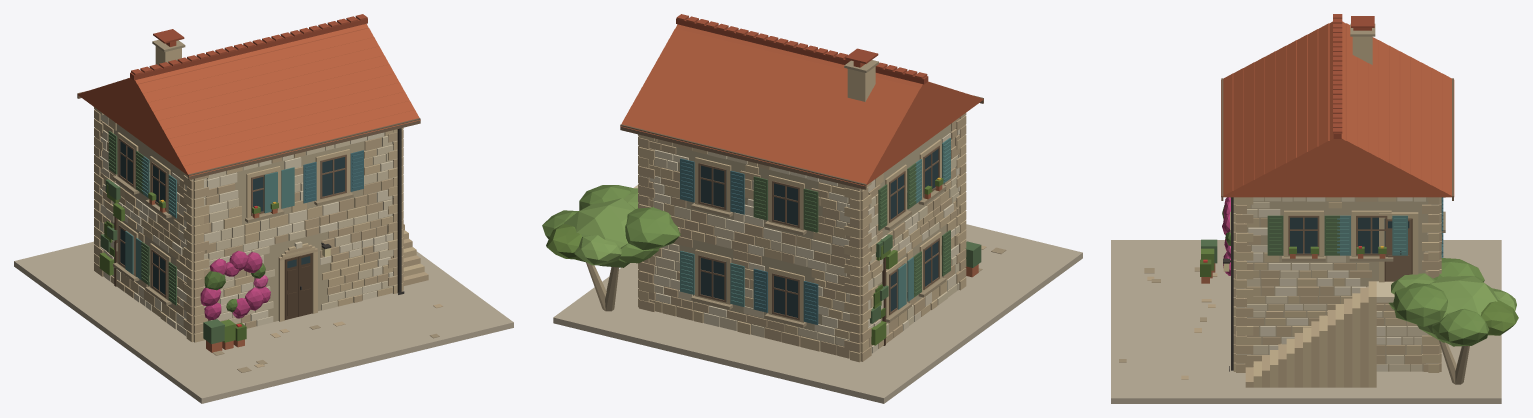
The model's file is ev-tas-dis-merdivenli.glb.
The picture shows the model from 3 angles, left to right: view 1: azimuth 30°, elevation 25°; view 2: azimuth 150°, elevation 25°; view 3: azimuth 270°, elevation 25°; orthographic projection. The views are drawn at different scales.
Visible parts, largest first — view 1: kiremit1, zemin, tas2, tas3, harc, tas4, tas1, ahsap, cam, kepenk2, begonvil, ahsap_koyu (+10 smaller); view 2: kiremit1, zemin, tas2, tas3, harc, tas1, tas4, cam, ahsap, yaprak1, yaprak3, yesil_kepenk (+7 smaller); view 3: kiremit1, zemin, tas2, tas3, harc, yaprak1, tas1, tas4, yaprak3, ahsap, tas_koyu, cam (+5 smaller).
Part boxes in pixels (left/top/right/bottom): kiremit1: left=77, top=24, right=420, bottom=176; zemin: left=14, top=241, right=513, bottom=403; tas2: left=94, top=46, right=424, bottom=342; tas3: left=94, top=110, right=442, bottom=367; harc: left=101, top=120, right=392, bottom=333; tas4: left=97, top=114, right=402, bottom=336; tas1: left=100, top=130, right=397, bottom=335; ahsap: left=77, top=91, right=420, bottom=297; cam: left=120, top=141, right=344, bottom=294; kepenk2: left=125, top=156, right=294, bottom=279; begonvil: left=200, top=250, right=270, bottom=319; ahsap_koyu: left=114, top=202, right=312, bottom=319; kiremit1: left=620, top=24, right=983, bottom=186; zemin: left=553, top=224, right=1082, bottom=403; tas2: left=638, top=66, right=966, bottom=362; tas3: left=638, top=113, right=986, bottom=361; harc: left=649, top=124, right=958, bottom=358; tas1: left=633, top=151, right=959, bottom=353; tas4: left=650, top=126, right=963, bottom=353; cam: left=700, top=149, right=938, bottom=317; ahsap: left=620, top=95, right=983, bottom=320; yaprak1: left=542, top=185, right=680, bottom=263; yaprak3: left=564, top=188, right=638, bottom=267; yesil_kepenk: left=753, top=163, right=950, bottom=297; kiremit1: left=1221, top=21, right=1454, bottom=197; zemin: left=1111, top=240, right=1501, bottom=403; tas2: left=1233, top=36, right=1441, bottom=387; tas3: left=1147, top=197, right=1441, bottom=387; harc: left=1247, top=197, right=1428, bottom=371; yaprak1: left=1393, top=258, right=1489, bottom=346; tas1: left=1235, top=197, right=1440, bottom=371; tas4: left=1234, top=197, right=1438, bottom=371; yaprak3: left=1389, top=273, right=1516, bottom=342; ahsap: left=1221, top=78, right=1453, bottom=281; tas_koyu: left=1119, top=23, right=1469, bottom=384; cam: left=1290, top=217, right=1409, bottom=253.
Size of the model in its own units: 12.92 by 9.5 by 13.05.
